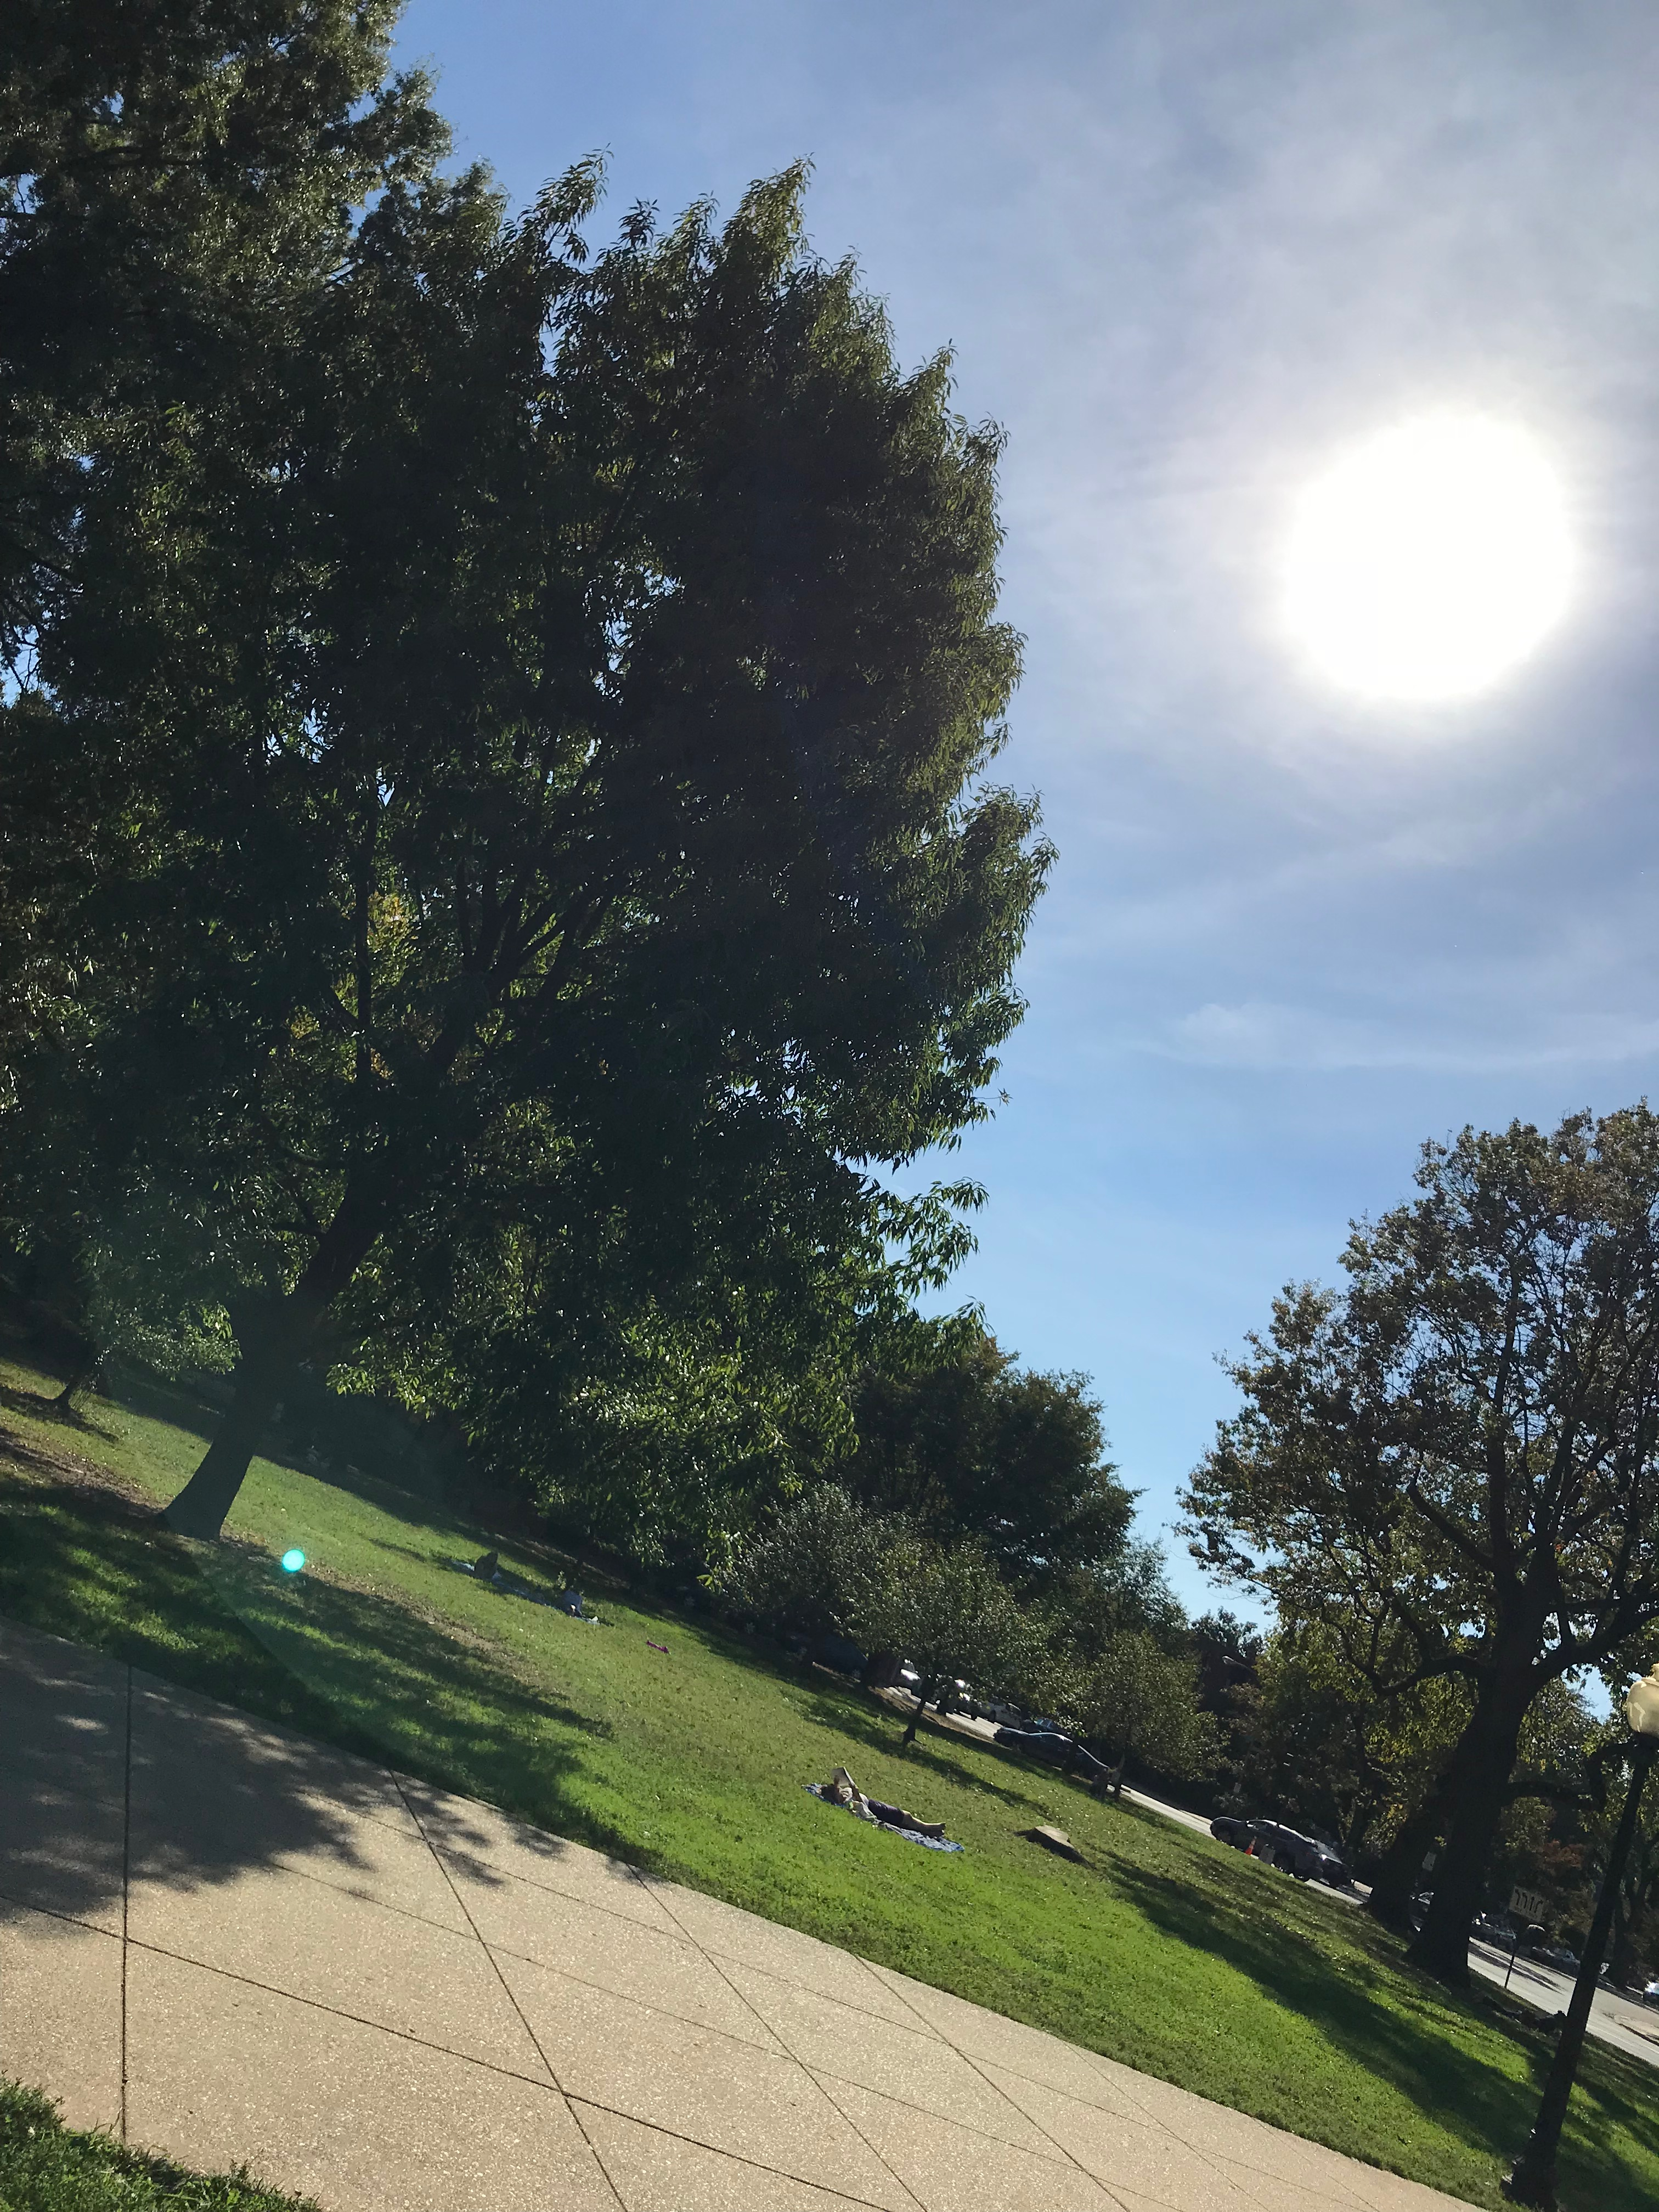flare: (281, 1548, 307, 1575)
